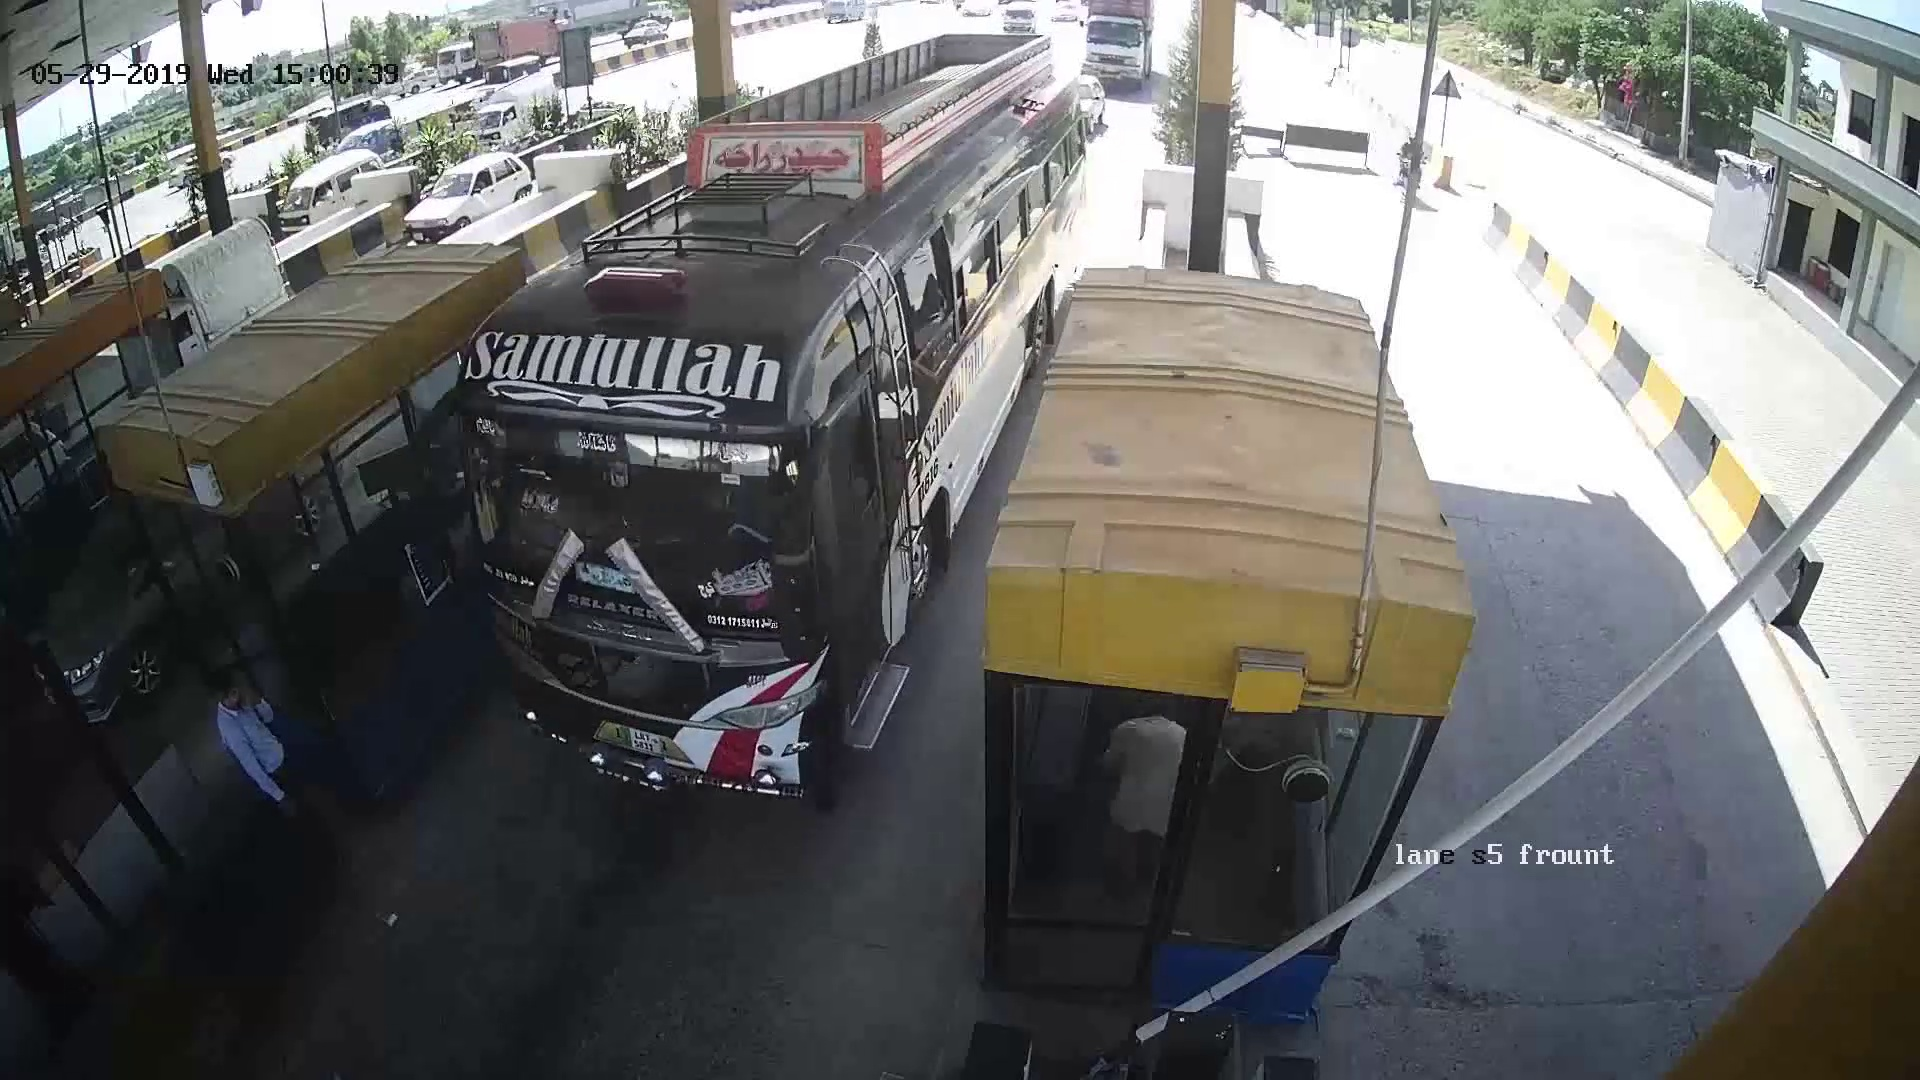bus: (455, 290, 835, 829)
